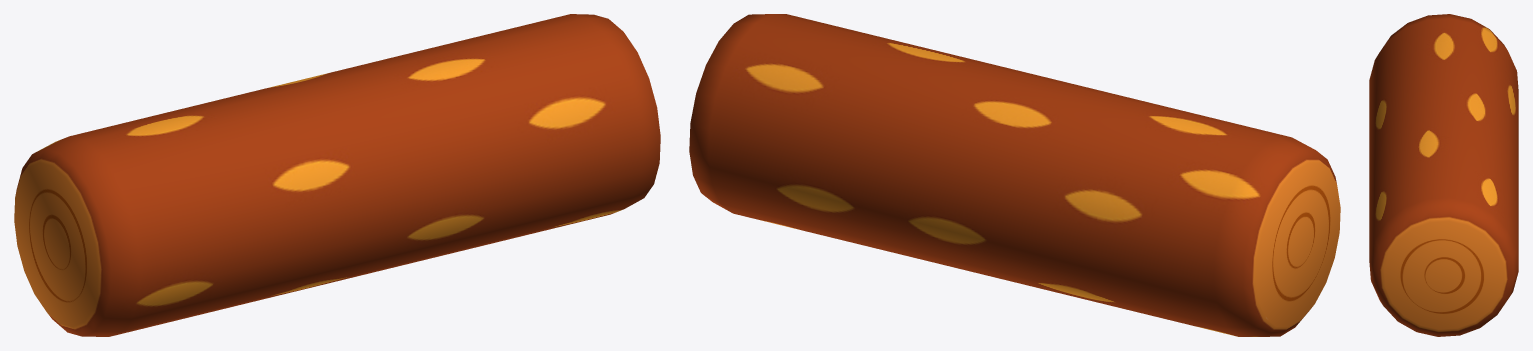
File: Log.fbx
3 views of the same model, side by side, from view 1: azimuth 30°, elevation 25°; view 2: azimuth 150°, elevation 25°; view 3: azimuth 270°, elevation 25° (orthographic). The views are drawn at different scales.
Visible parts, largest first — view 1: Log; view 2: Log; view 3: Log.
Boxes of the visible parts, left/top/right/bottom form: Log: left=14, top=14, right=660, bottom=336; Log: left=689, top=14, right=1340, bottom=336; Log: left=1369, top=14, right=1518, bottom=336.
Bounding box in the file's own units: 3.4 × 1.06 × 1.06.
